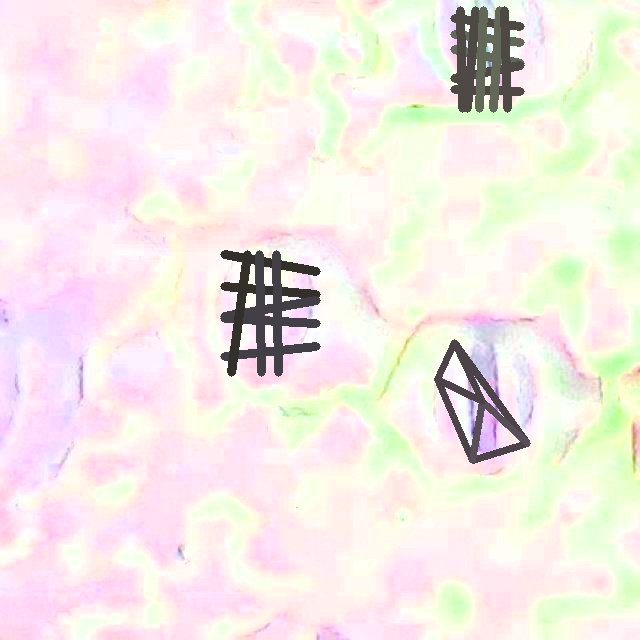open: (221, 251, 319, 375), (434, 339, 530, 463), (450, 7, 523, 112)
